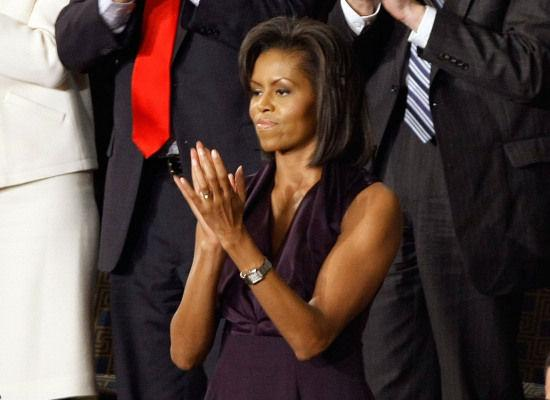person: (168, 12, 404, 400)
